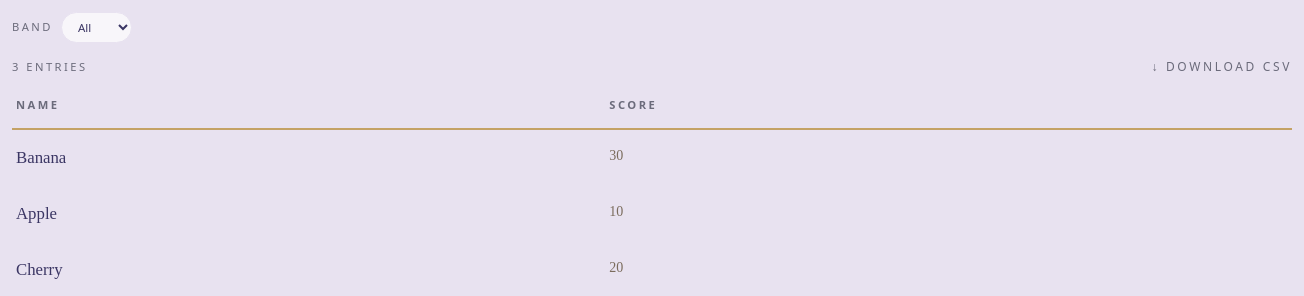
DataTable search + filters (opt-in) › a facet filter narrows rows; Reset restores everything
Select "low" in the dropdown: point(96, 28) [61,12,132,43]
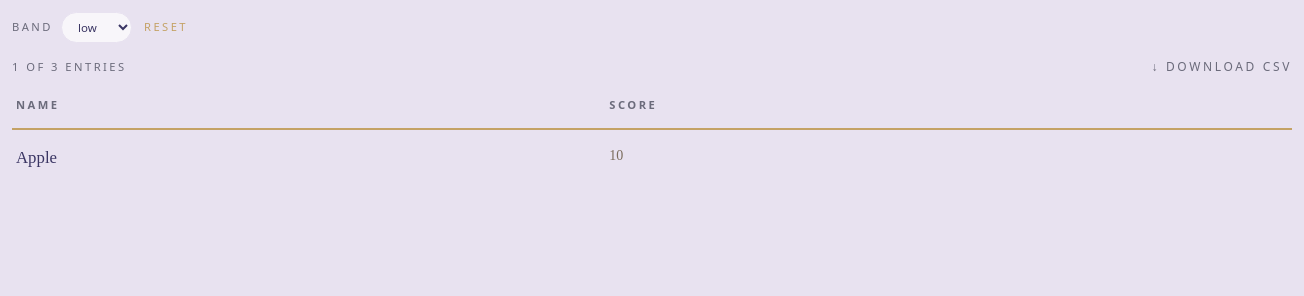
Expected: the text "Apple" is shown, [12,129,593,185]
Result: the text "Banana" is gone
Click the button "Reset": point(166, 28) [144,19,188,36]
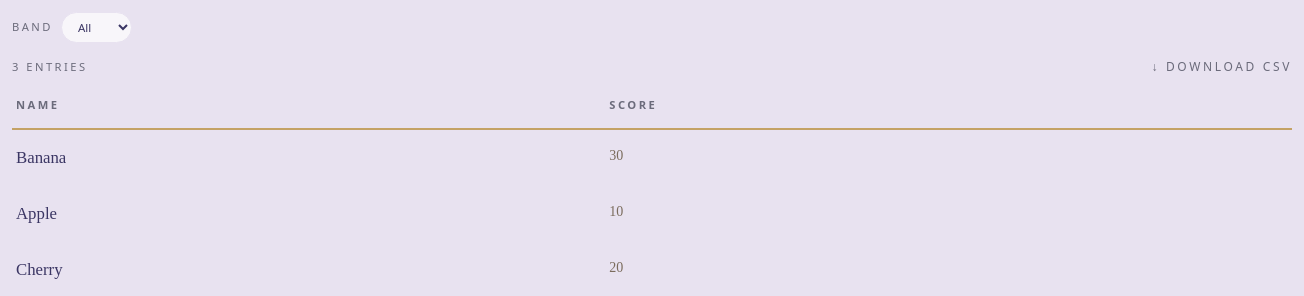
Expected: the text "3 entries" is shown, [12,59,88,76]
Result: the text "Banana" is shown at [12,129,593,185]
